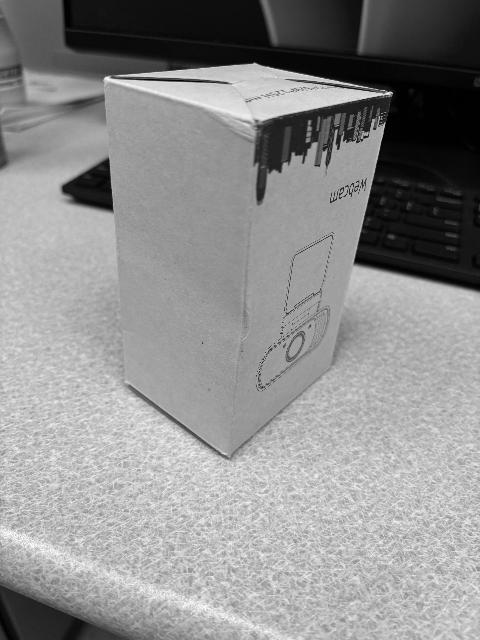CameraBox1: (102, 63, 392, 460)
